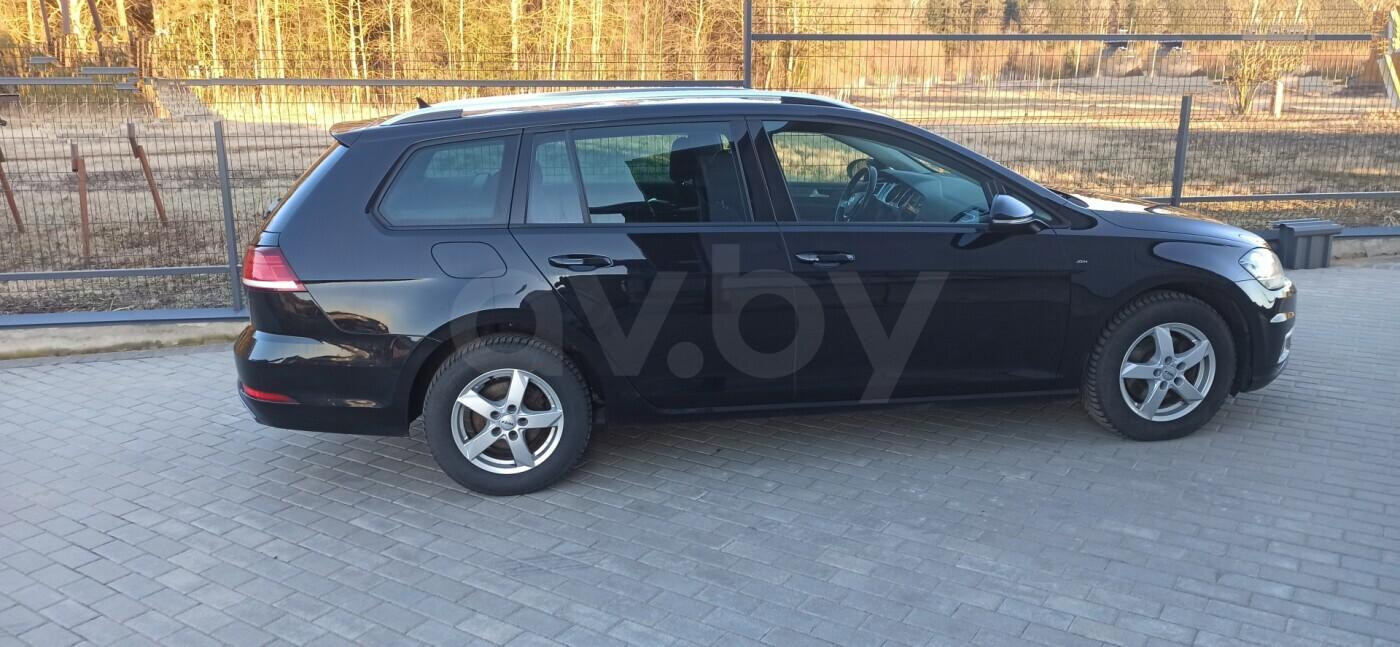Golf_2017-2021: (230, 92, 1296, 508)
